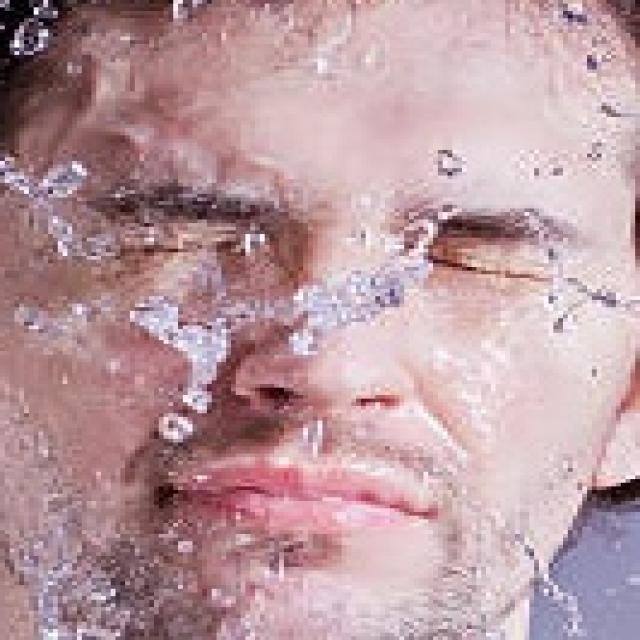Anxiety: (5, 0, 640, 636)
